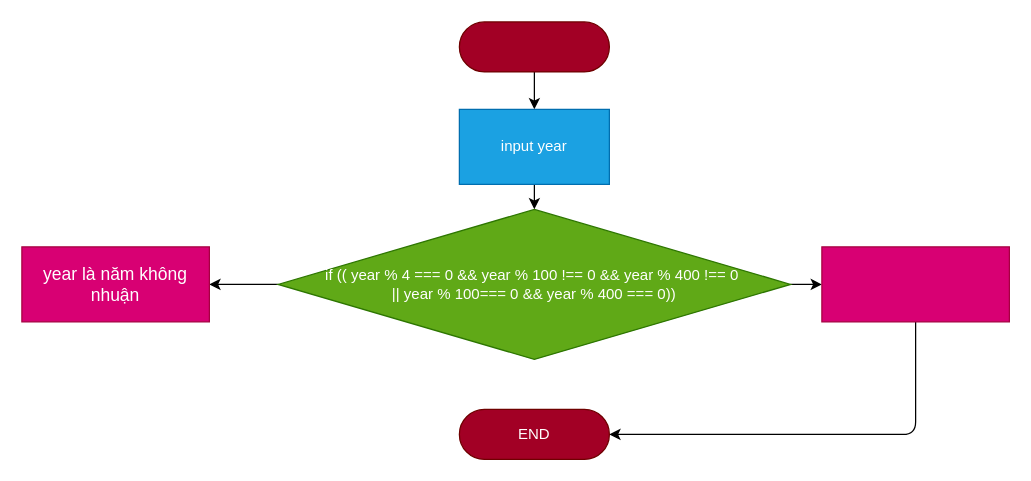
This 1031x481 diagram has some shape labels left out. The shapes that lost their labels are listed below. From the top down, each one's box as (x1, y1, x2, y2) in pixels, then its label:
(458, 21, 609, 72): BEGIN
(821, 246, 1009, 322): year là năm nhuận
